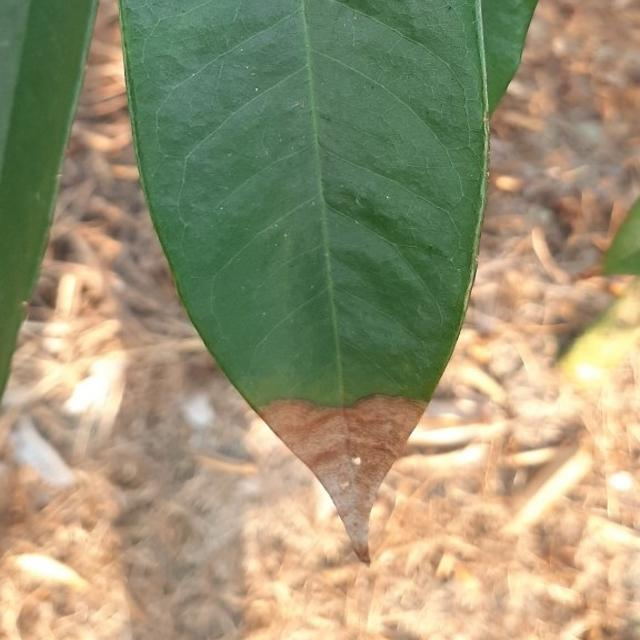Leaf Blight: (110, 3, 517, 579)
